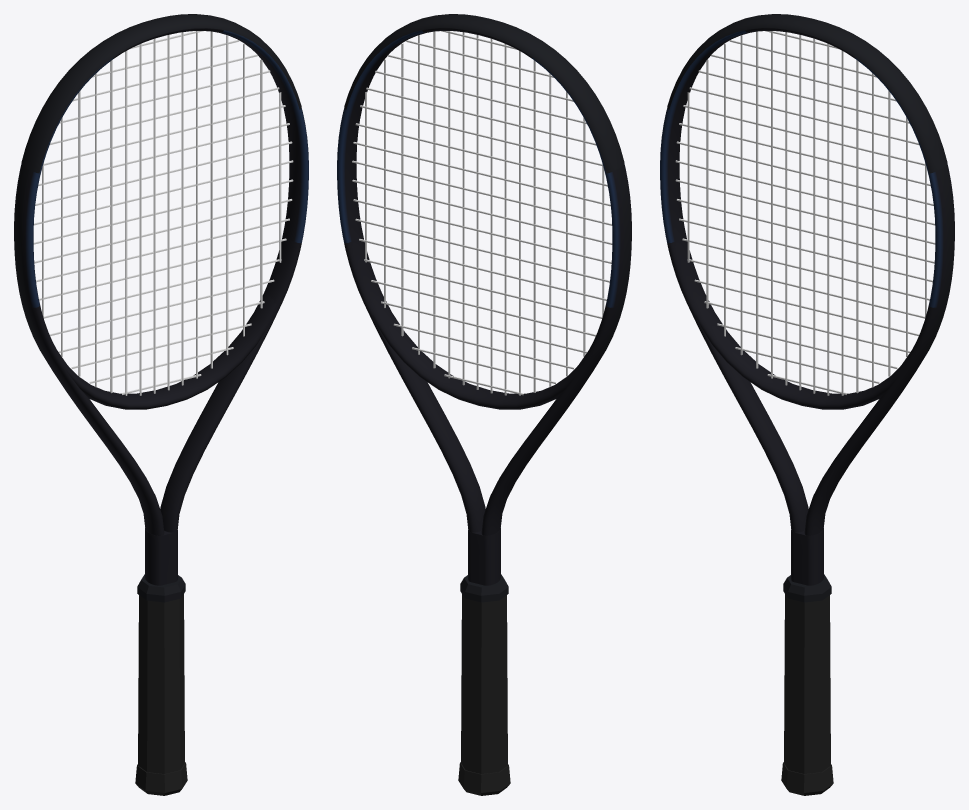
Rendered from prince-warrior-100-300g-2025.glb.
The picture shows the model from 3 angles, left to right: view 1: azimuth 30°, elevation 25°; view 2: azimuth 150°, elevation 25°; view 3: azimuth 330°, elevation 25°; orthographic projection.
Parts seen in each view (by area): view 1: frame, strings_mains, strings_crosses, grip, bumper, grommets, butt_cap, collar; view 2: frame, strings_mains, strings_crosses, grip, bumper, grommets, butt_cap, collar; view 3: frame, strings_mains, strings_crosses, grip, bumper, grommets, butt_cap, collar.
Boxes of the visible parts, left/top/right/bottom form: frame: left=14, top=28, right=308, bottom=585; strings_mains: left=42, top=31, right=281, bottom=395; strings_crosses: left=33, top=31, right=293, bottom=394; grip: left=138, top=594, right=184, bottom=773; bumper: left=21, top=14, right=301, bottom=173; grommets: left=15, top=165, right=45, bottom=354; butt_cap: left=135, top=762, right=187, bottom=795; collar: left=137, top=574, right=185, bottom=602; frame: left=337, top=28, right=631, bottom=585; strings_mains: left=365, top=31, right=604, bottom=395; strings_crosses: left=352, top=31, right=612, bottom=395; grip: left=461, top=594, right=507, bottom=773; bumper: left=344, top=14, right=624, bottom=173; grommets: left=600, top=165, right=630, bottom=354; butt_cap: left=458, top=762, right=510, bottom=795; collar: left=460, top=574, right=508, bottom=602; frame: left=660, top=28, right=954, bottom=585; strings_mains: left=687, top=31, right=926, bottom=395; strings_crosses: left=675, top=31, right=935, bottom=394; grip: left=784, top=594, right=830, bottom=773; bumper: left=667, top=14, right=947, bottom=173; grommets: left=923, top=165, right=953, bottom=354; butt_cap: left=781, top=762, right=833, bottom=795; collar: left=783, top=574, right=831, bottom=602.
Bounding box in the file's own units: 0.2696 × 0.6861 × 0.0396.
